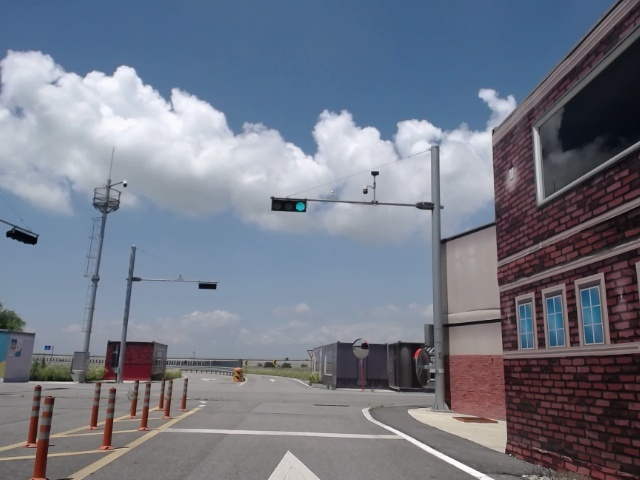green_3: (268, 194, 309, 215)
